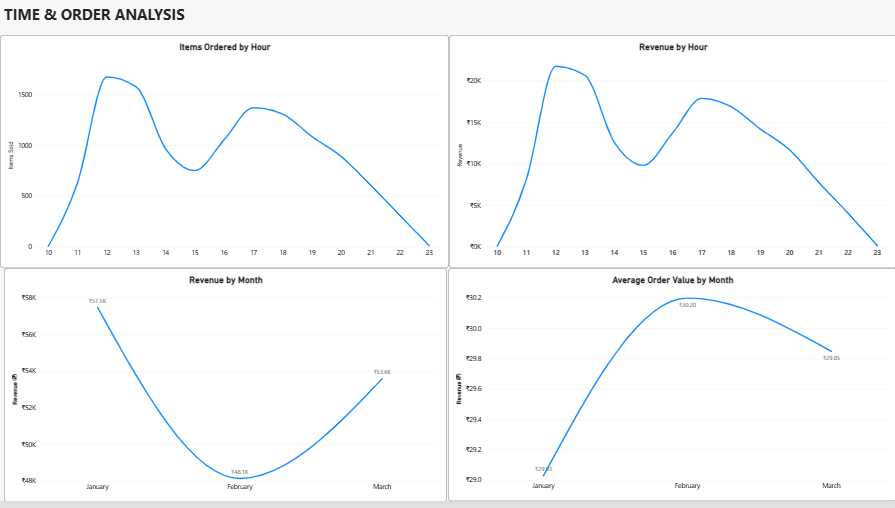

The dashboard page shown, as its layout file describes it:
{"tool":"powerbi","page":{"name":"Time & Order Analysis","canvas":[1920,1080],"ordinal":1},"visuals":[{"type":"lineChart","title":"Items Ordered by Hour","fields":{"Category":["Raw_Orders.Order_Hour"],"Y":["Raw_Orders.Total Items Sold"]},"box":[0,81.3,961.1,498.7],"z":0},{"type":"lineChart","title":"Revenue by Hour","fields":{"Category":["Raw_Orders.Order_Hour"],"Y":["Raw_Orders.Total_Revenue"]},"box":[961.1,81.3,958.9,498.7],"z":1},{"type":"lineChart","title":"Revenue by Month","fields":{"Category":["DateTable.Month"],"Y":["Raw_Orders.Total_Revenue"]},"box":[8.6,580.1,948.2,500.9],"z":2},{"type":"lineChart","title":"Average Order Value by Month","fields":{"Category":["DateTable.Month"],"Y":["Raw_Orders.Average Order Value"]},"box":[958.9,580.1,961.1,498.7],"z":3},{"type":"textbox","box":[8.6,15,1851.5,164.8],"z":4}]}

Visuals, with their boxes in screenshot pixels (x1, y1, x2, y2), scaled from the page's 1920x1080 canvas onto the 895x508 screenshot:
"Items Ordered by Hour" lineChart: 0, 38, 448, 273
"Revenue by Hour" lineChart: 448, 38, 894, 273
"Revenue by Month" lineChart: 4, 273, 446, 507
"Average Order Value by Month" lineChart: 447, 273, 894, 507
textbox: 4, 7, 867, 85
